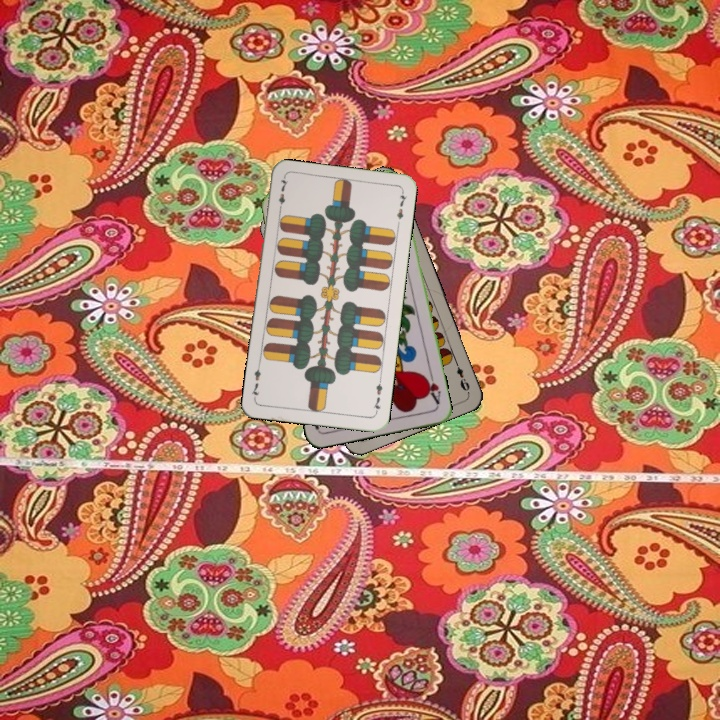E7: (274, 174, 291, 215), (369, 376, 385, 416)
E9: (451, 356, 472, 394)
HA: (420, 368, 443, 407)
